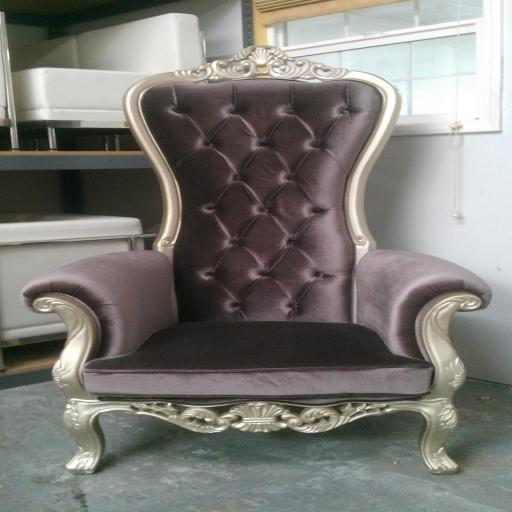chair: (20, 44, 493, 475), (8, 12, 208, 150), (0, 213, 157, 371)
